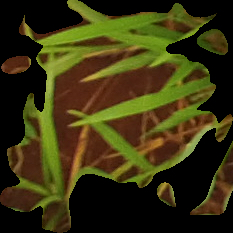grass: (1, 1, 231, 232)
